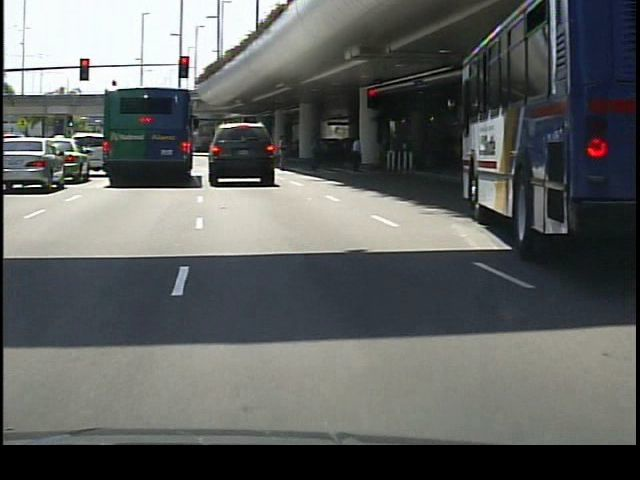person: (303, 130, 324, 175), (344, 133, 365, 171), (273, 132, 290, 173)
